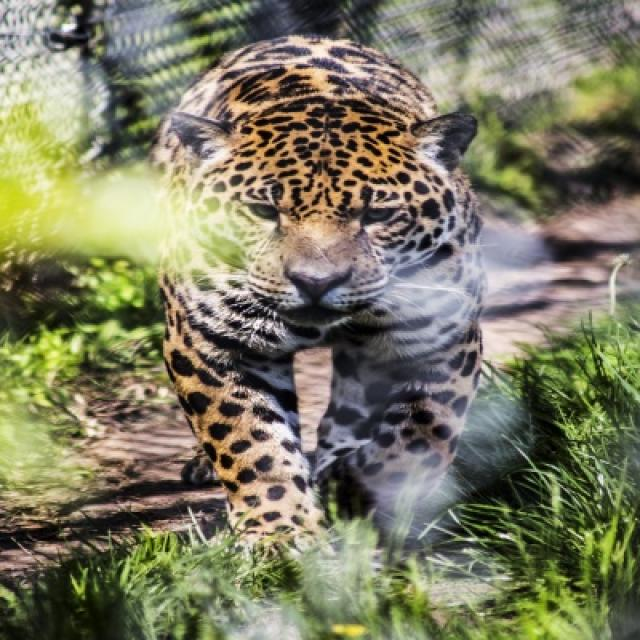Jaguar: (147, 35, 490, 568)
